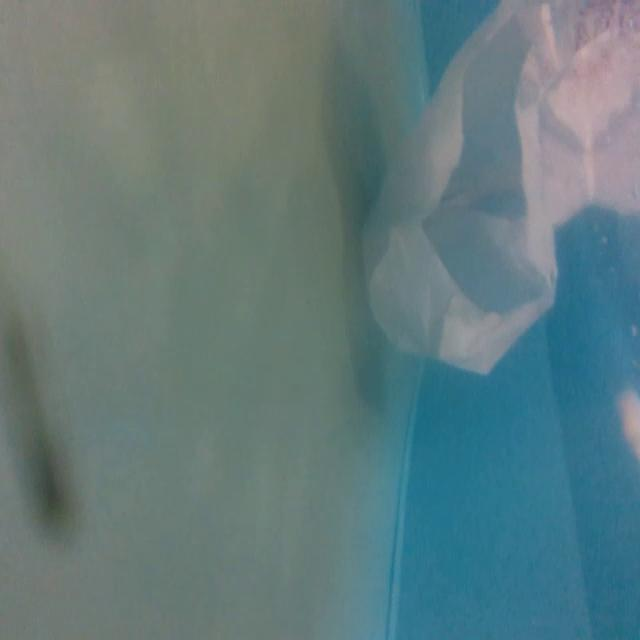plastic bags: (352, 2, 640, 386)
